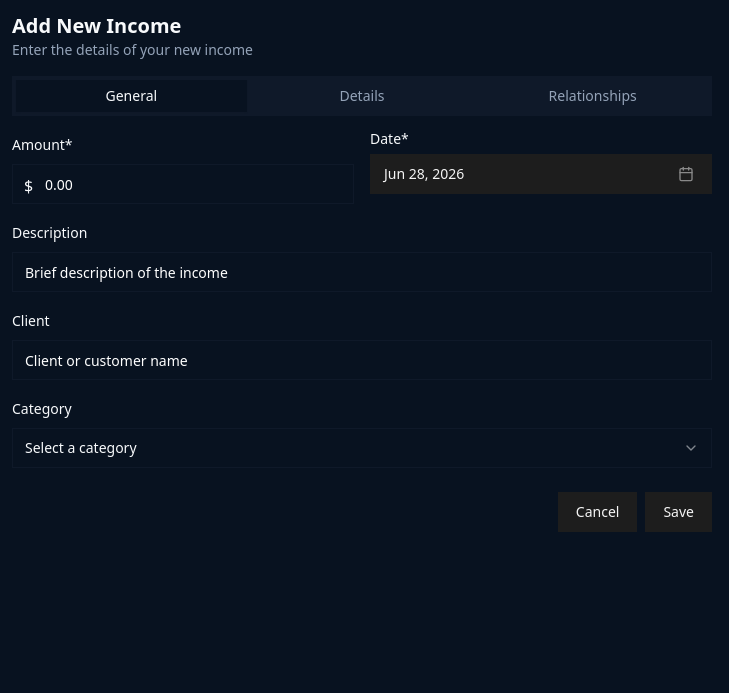
Test: IncomeForm – selecting a booking auto-fills the date field › fills the date field with date when booking has no scheduledDate
Click the tab "Relationships": click(593, 96) [477, 80, 708, 112]
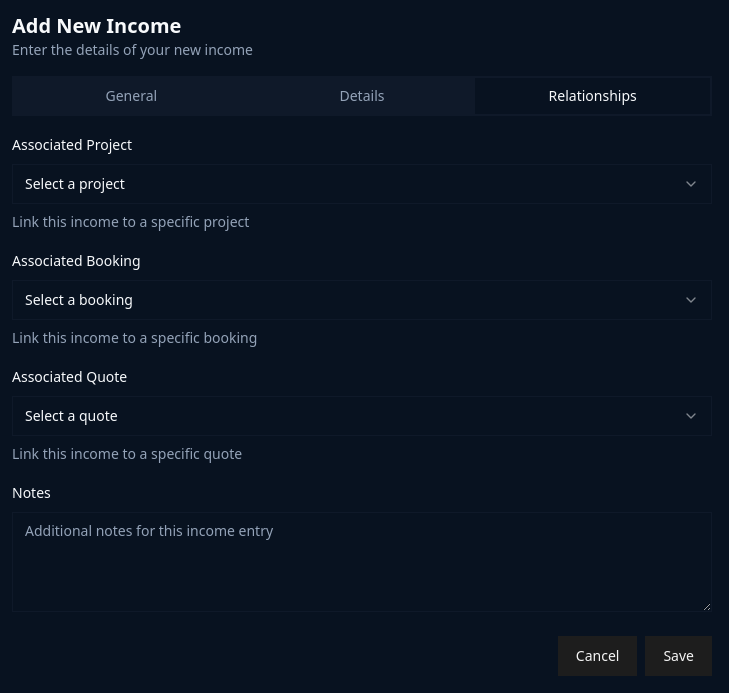
Click the dropdown labelled "Select a booking": click(79, 300) [12, 280, 712, 320]
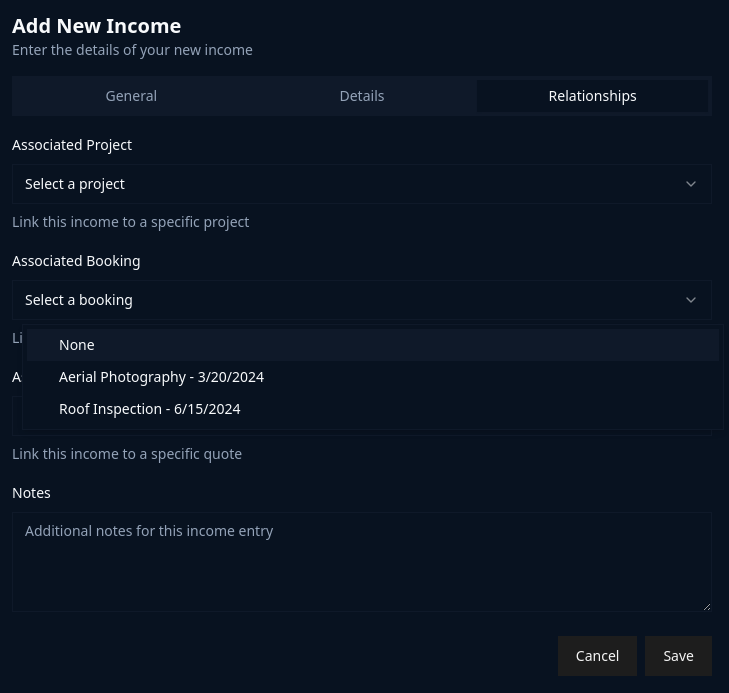
Click the option "Roof Inspection - 6/15/2024": click(150, 408) [59, 399, 240, 418]
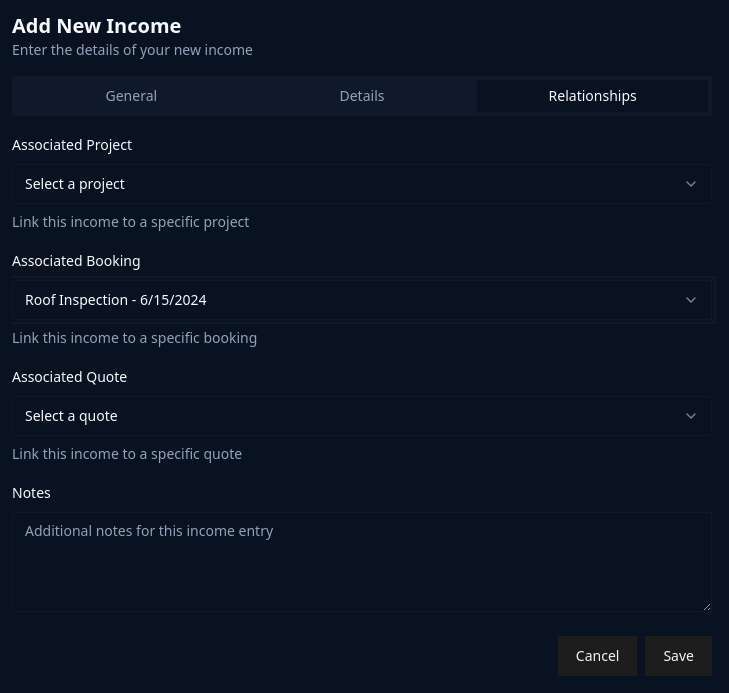
Click the tab "General": click(131, 96) [16, 80, 247, 112]
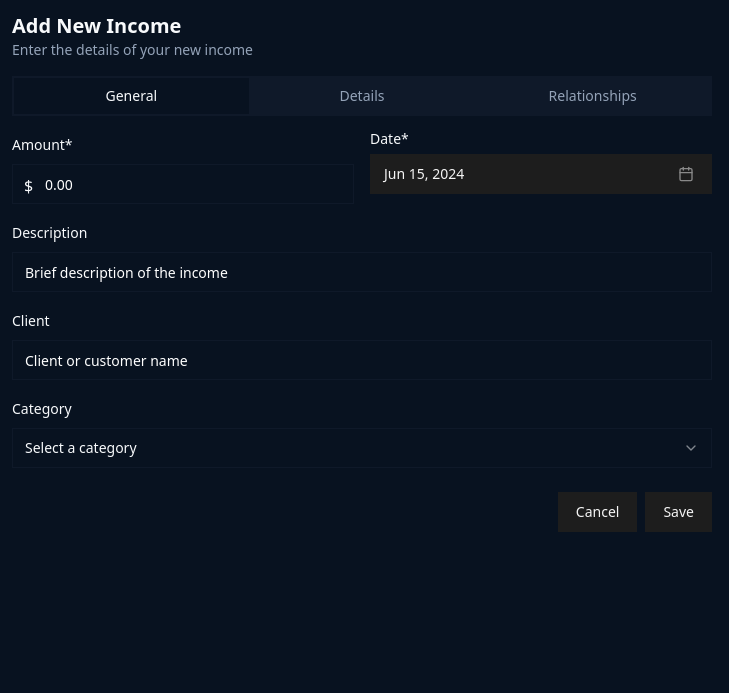
Now the button "Jun 15, 2024" is shown, box [370, 154, 712, 194]
